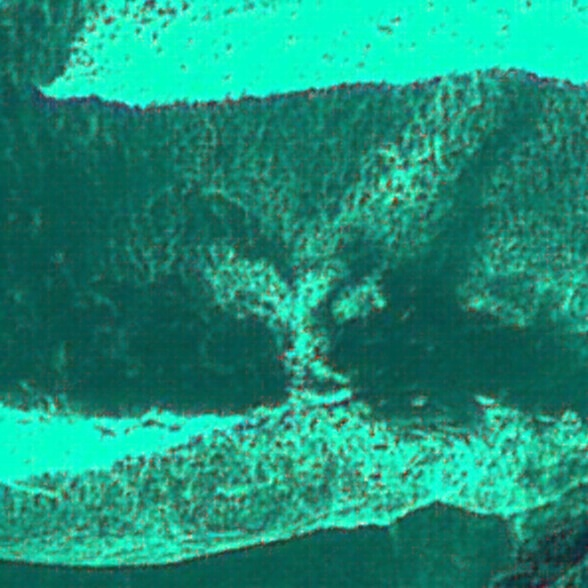rip_current: (338, 91, 533, 417)
